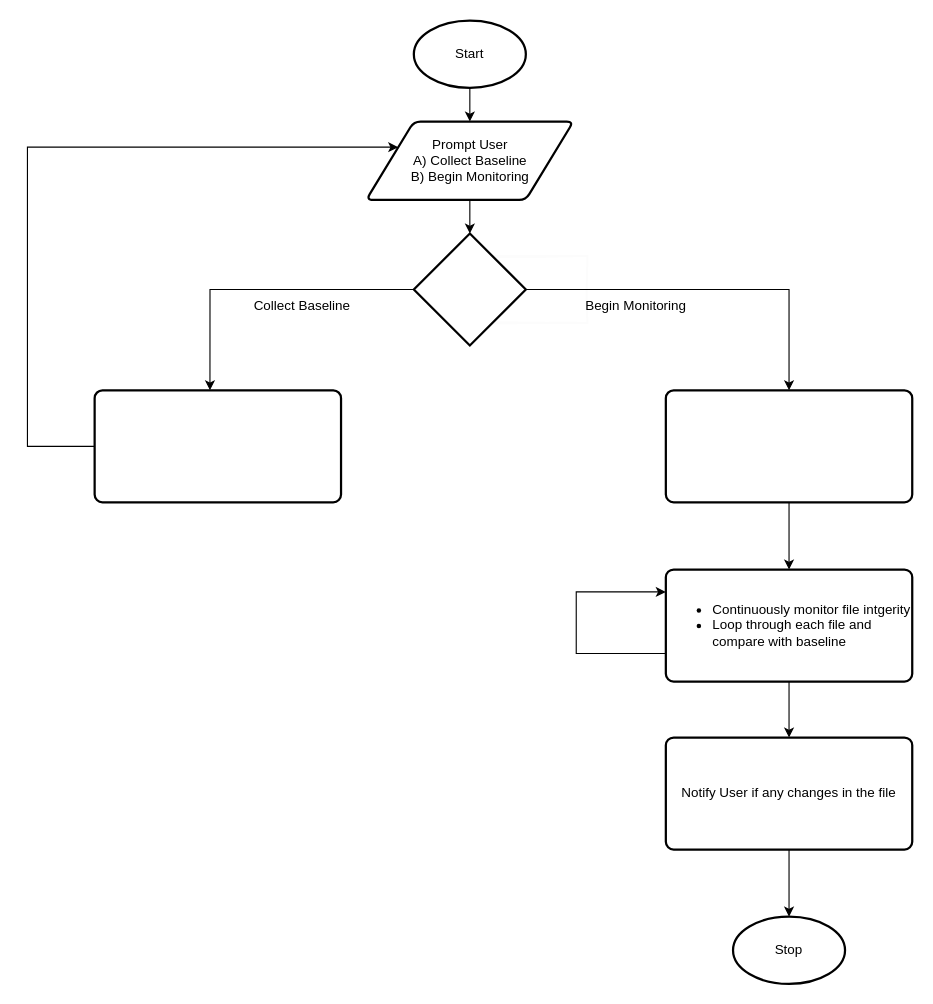
Image size: 933x1004. Some labels were removed from this diagram. The shapes that lost their labels are listed below. From the top down, each one's box as (x1, y1, x2, y2) in pixels, then its label:
(412, 232, 526, 346): User Input
(93, 389, 342, 503): Traverse thru file and calculates hash Store file hash in baselline
(664, 389, 913, 503): Load Baseline to Dictinoary
